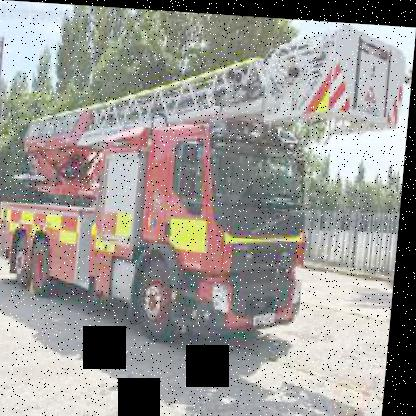emergency: (0, 5, 412, 354)
